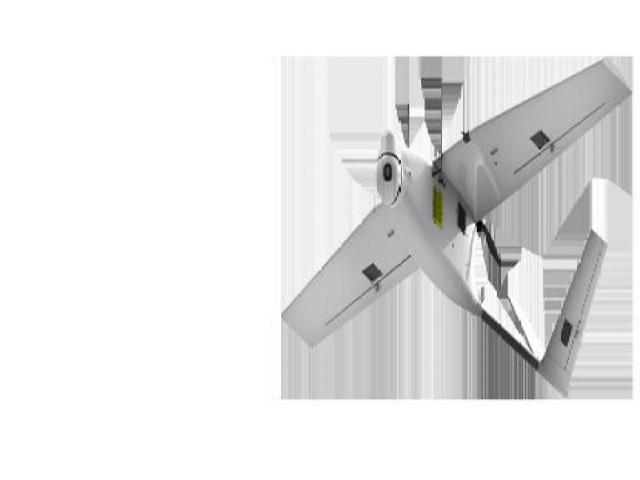uav: (278, 49, 633, 400)
